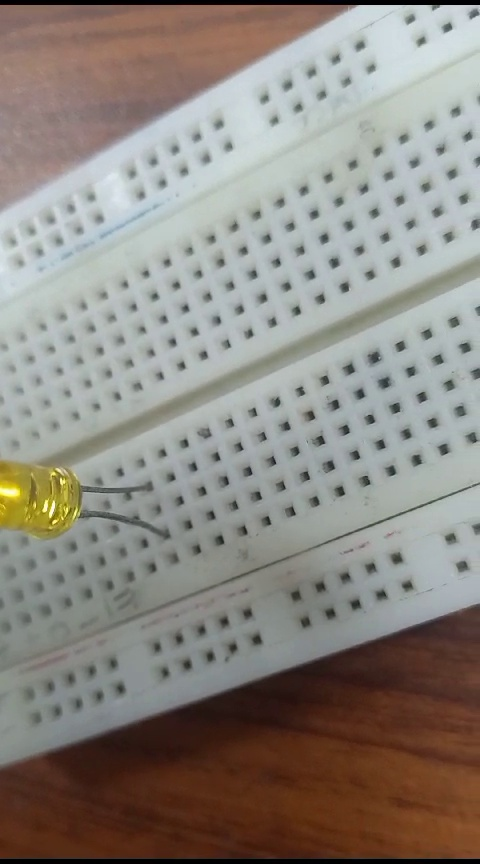LED: (3, 448, 175, 547)
